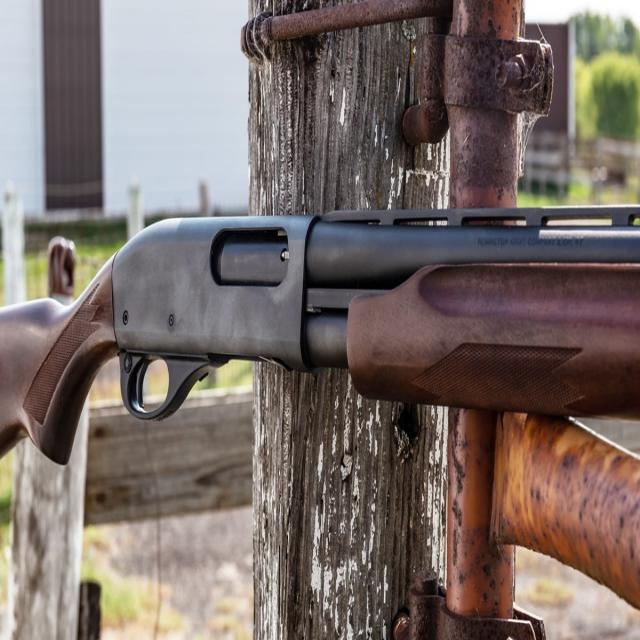ShotGun: (0, 205, 640, 466)
